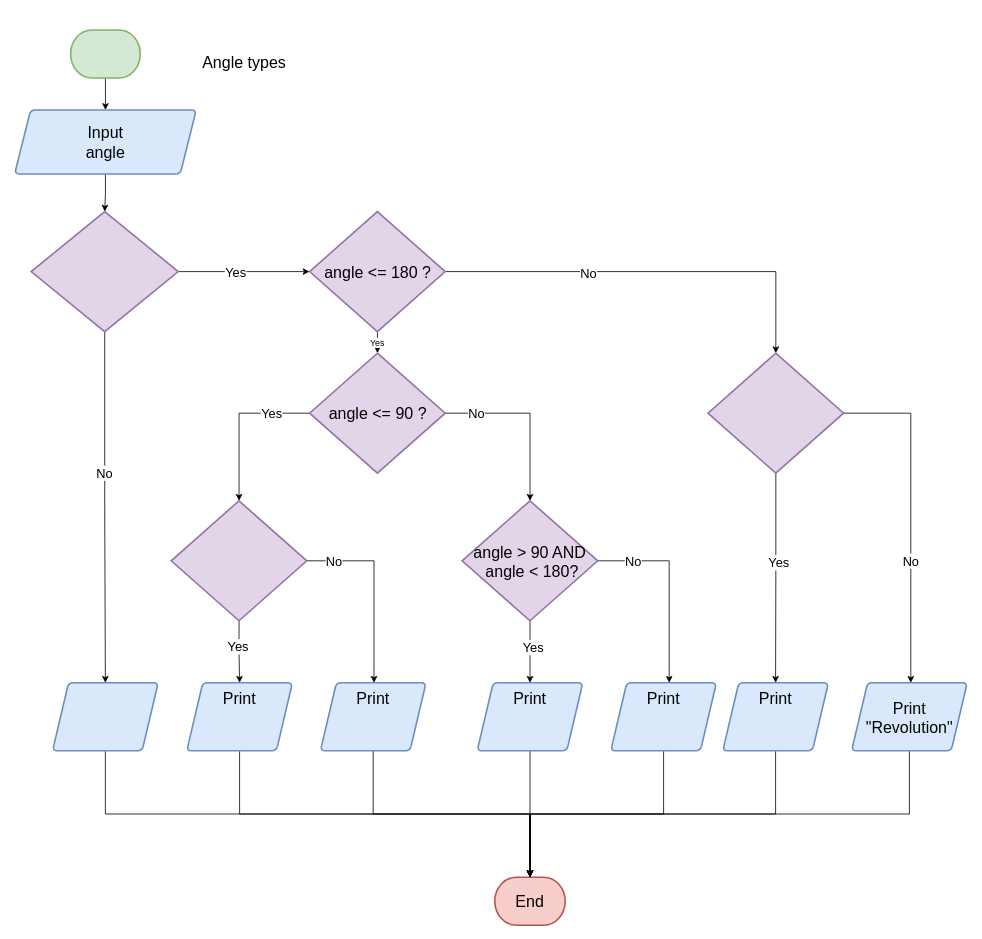
This 982x939 diagram has some shape labels left out. Here are the shapes that lost their labels. From the top down, the box of each, then its label:
(69, 29, 141, 78): Start
(30, 210, 179, 332): angle > 0 AND angle <=360 ?
(707, 352, 844, 474): angle < 360 ?
(170, 500, 307, 621): angle > 0 AND angle < 90 ?
(51, 682, 159, 751): Print "Invalid angle"
